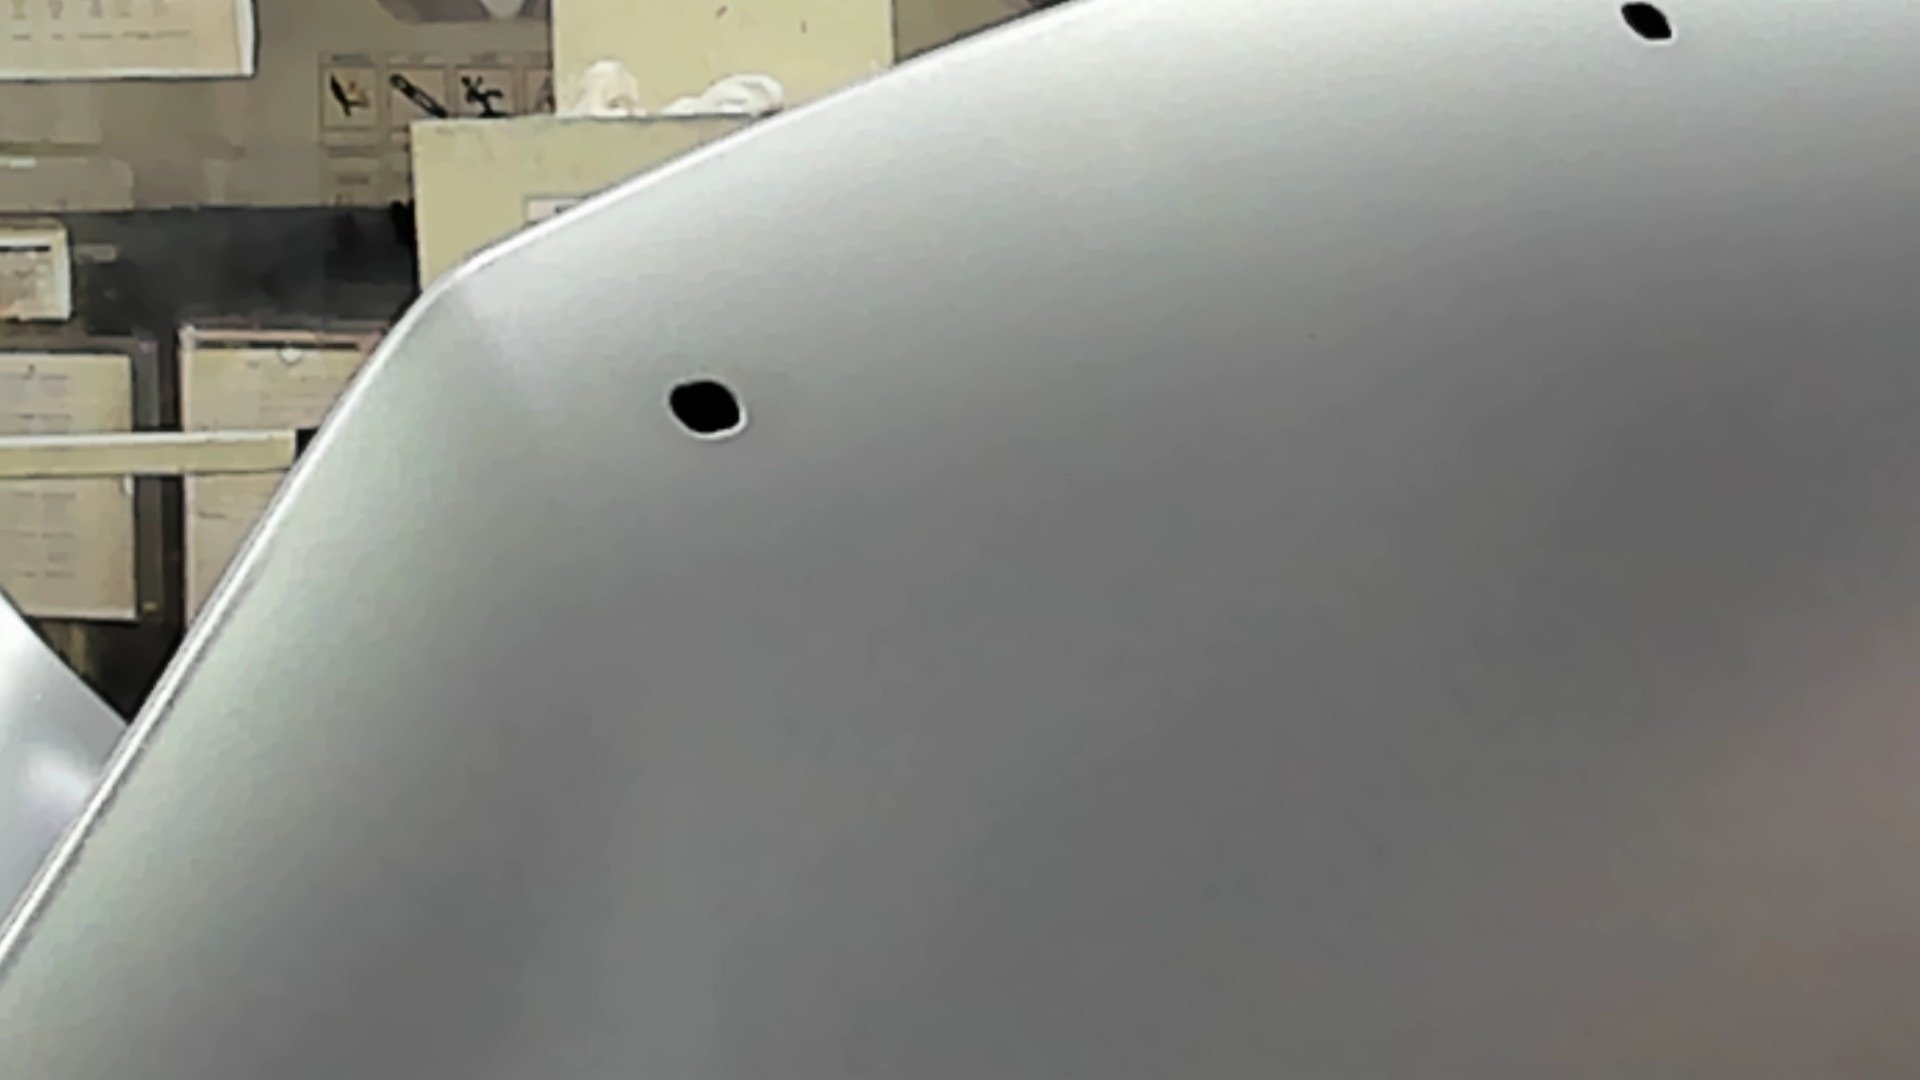amorfo: (661, 373, 754, 444), (1611, 1, 1677, 50)
